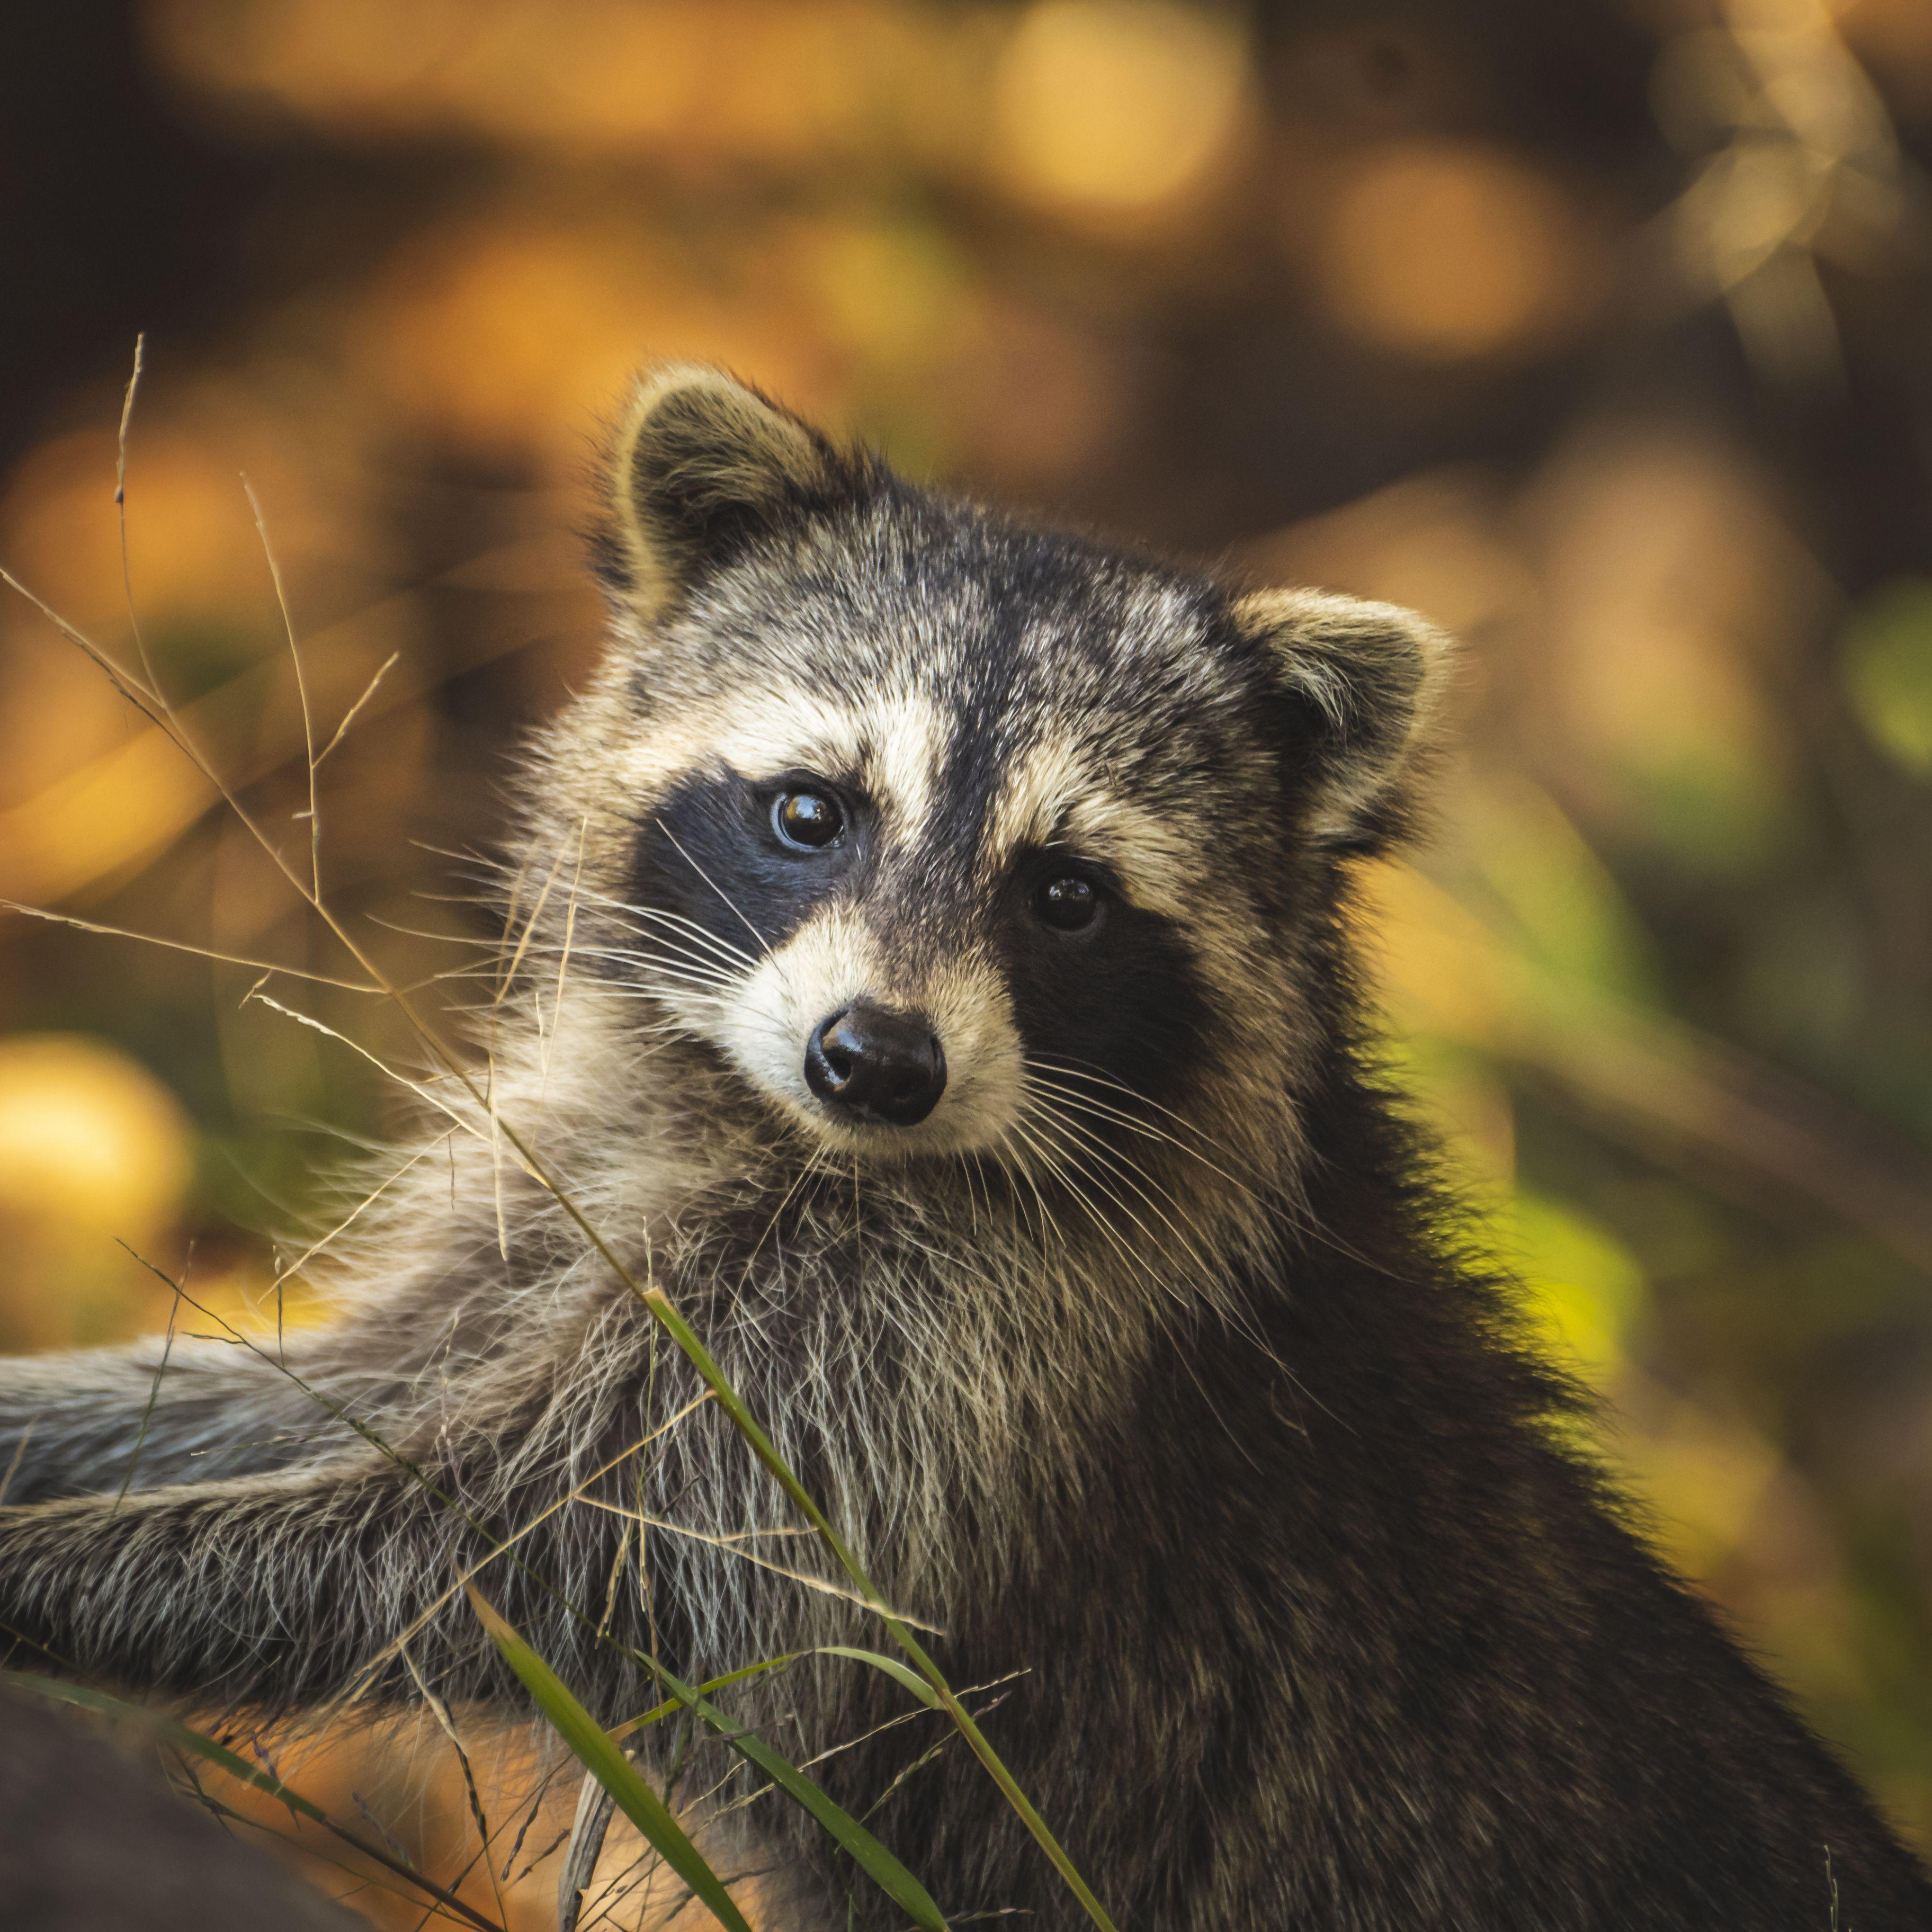raccoon: (0, 363, 1932, 1932)
